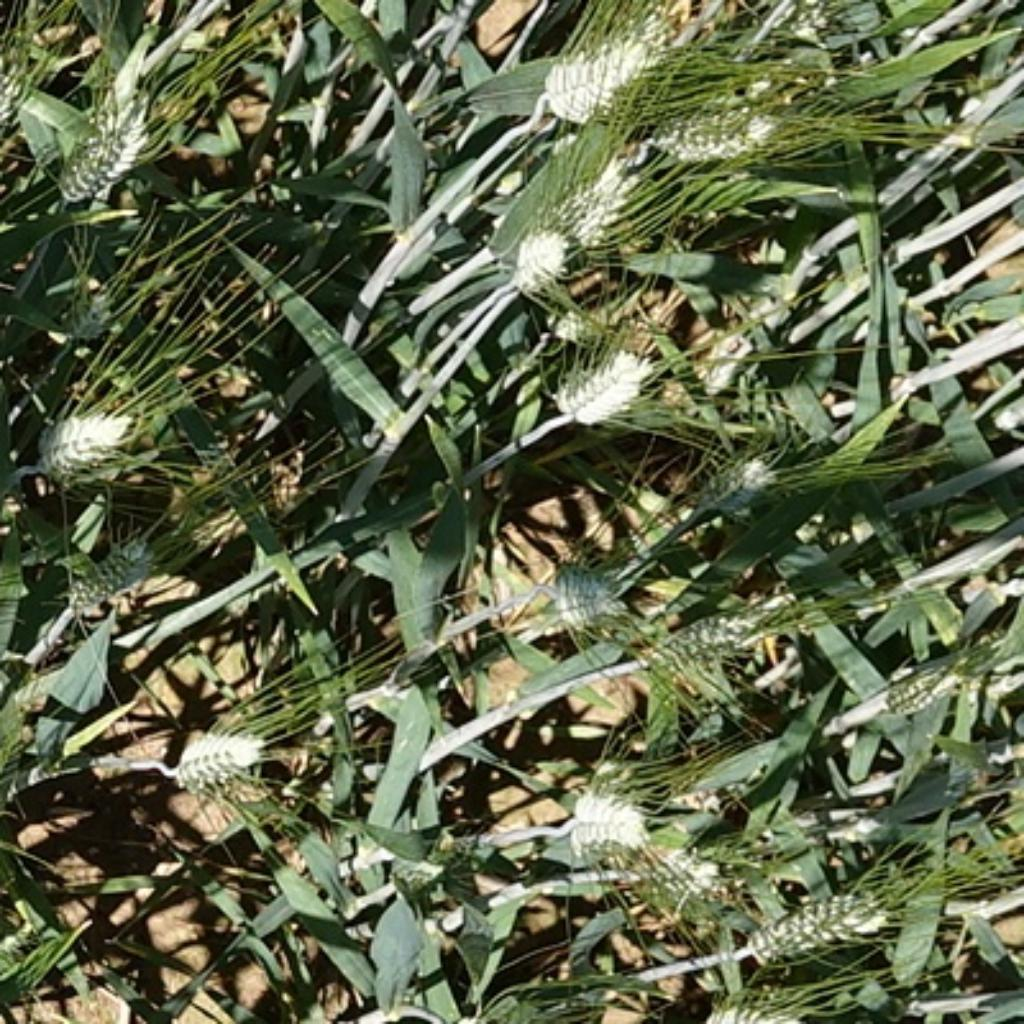0-0: (870, 599, 1021, 729), (524, 7, 691, 120), (640, 71, 819, 168), (476, 537, 632, 640), (637, 581, 783, 688), (729, 875, 893, 967), (58, 76, 168, 207), (151, 706, 284, 808), (532, 125, 642, 240), (52, 524, 164, 621), (616, 829, 734, 921), (30, 391, 135, 476), (545, 337, 652, 419), (552, 770, 652, 855), (683, 437, 783, 514), (43, 273, 120, 352), (496, 217, 570, 286), (524, 299, 601, 348)
